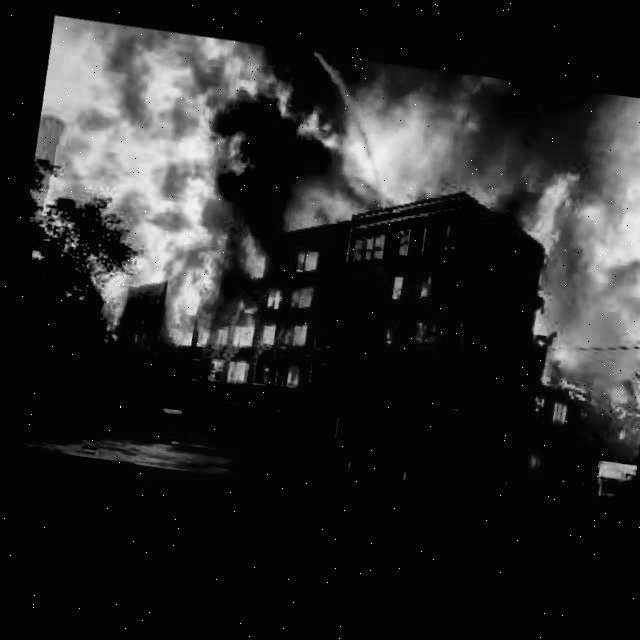Fire: (144, 214, 270, 391), (259, 140, 396, 267), (519, 161, 587, 266), (370, 265, 440, 348), (520, 366, 592, 433), (249, 281, 285, 355), (269, 356, 299, 392)
Smoke: (58, 16, 354, 257), (323, 52, 640, 263)
